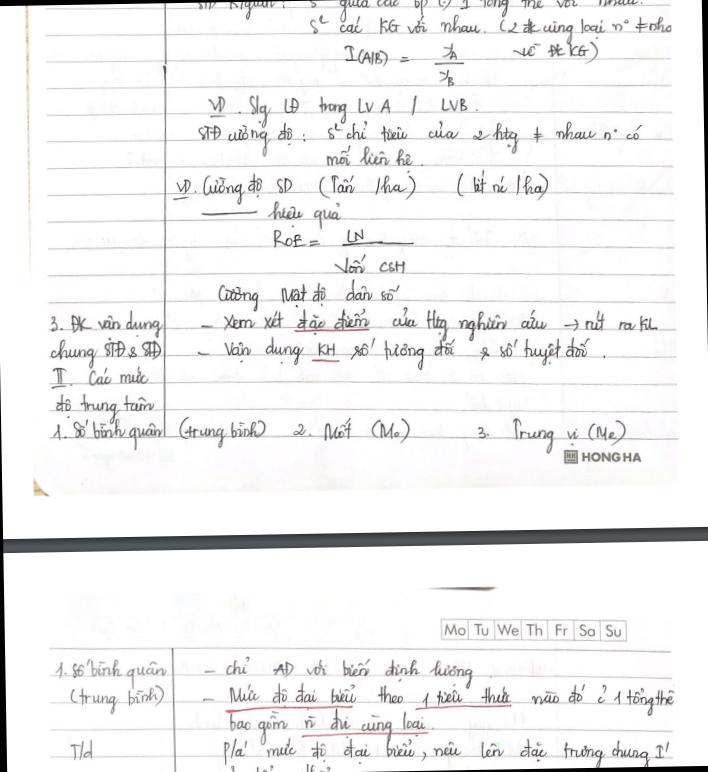text: (225, 672, 677, 724), (201, 302, 659, 348), (218, 727, 673, 772), (194, 333, 592, 376), (39, 411, 413, 451), (324, 113, 644, 156), (307, 9, 675, 41), (189, 0, 643, 25), (225, 650, 476, 694), (206, 89, 472, 127), (166, 169, 417, 206), (223, 705, 436, 747), (212, 275, 402, 314), (339, 37, 468, 86), (510, 414, 628, 456), (439, 619, 622, 643), (46, 306, 163, 343), (49, 655, 168, 690), (46, 335, 164, 370), (194, 120, 298, 158), (52, 390, 158, 424), (450, 166, 552, 201), (320, 143, 424, 175), (46, 364, 150, 392), (269, 223, 368, 250), (266, 198, 344, 230), (512, 40, 598, 68), (334, 250, 409, 281), (217, 759, 334, 772), (580, 448, 642, 468), (68, 737, 98, 763), (475, 424, 489, 443)
